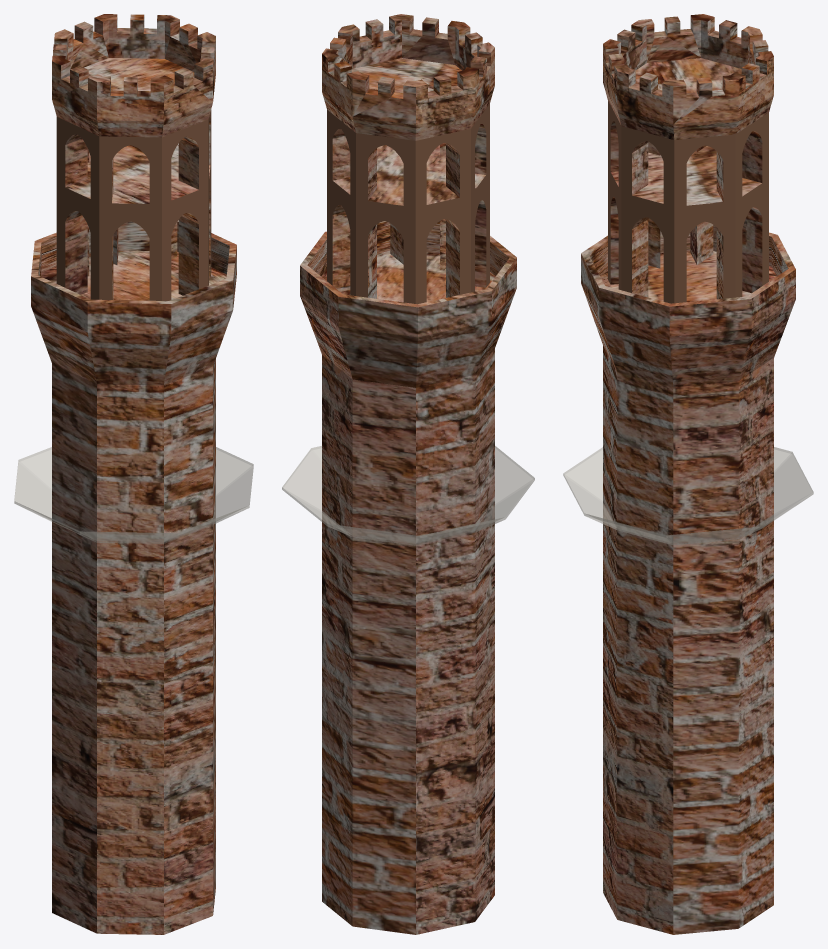
3 renders of one model, left to right at view 1: azimuth 30°, elevation 25°; view 2: azimuth 150°, elevation 25°; view 3: azimuth 270°, elevation 25°, orthographic.
Parts seen in each view (by area): view 1: Torre_Circle, Mantovana_Circle.001; view 2: Torre_Circle, Mantovana_Circle.001; view 3: Torre_Circle, Mantovana_Circle.001.
Part boxes in pixels (x1,y1,x2,y2): Torre_Circle: (31,14,236,934); Mantovana_Circle.001: (14,447,253,543); Torre_Circle: (300,14,516,934); Mantovana_Circle.001: (282,446,534,545); Torre_Circle: (581,14,795,934); Mantovana_Circle.001: (563,447,813,545).
Size of the model in its own units: 9.35 by 35 by 9.35.
Materials: 3 (2 with a texture image).
